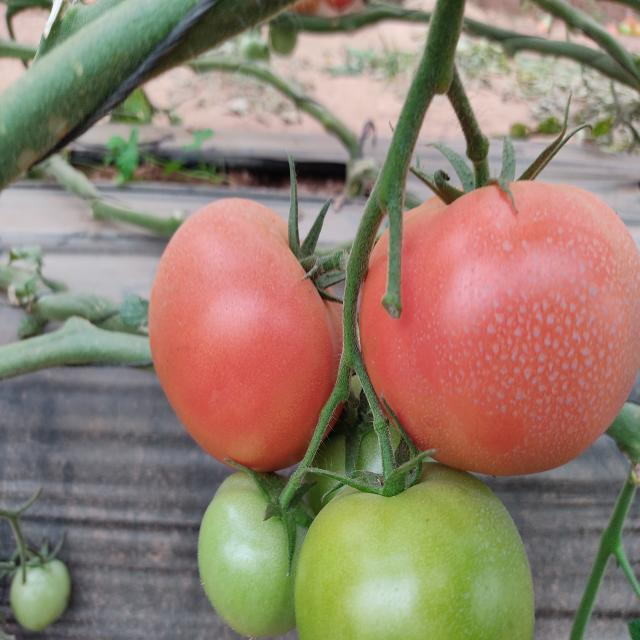Ripe Tomato: (360, 178, 640, 471), (150, 198, 348, 470)
Unripe Tomato: (296, 467, 534, 640), (200, 467, 314, 640), (10, 559, 72, 628)
